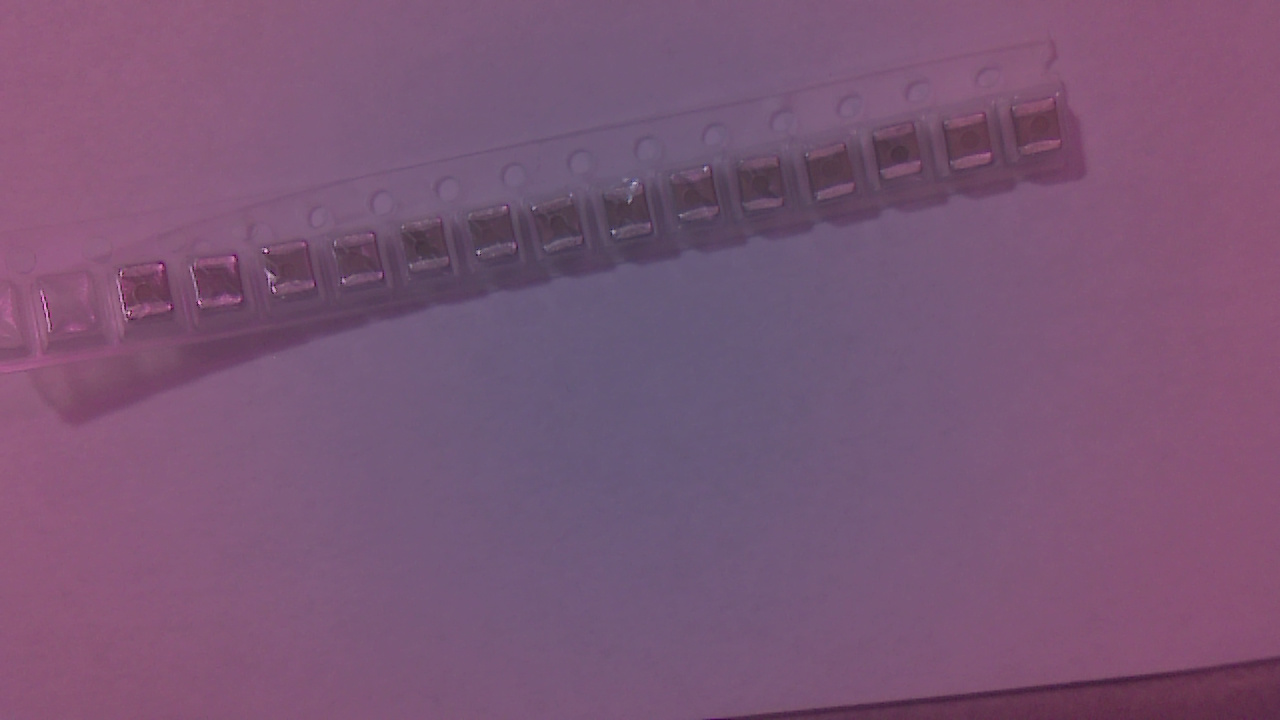Condensator: (122, 263, 179, 329), (265, 243, 319, 306), (1015, 104, 1071, 164), (607, 184, 660, 247), (403, 221, 457, 282), (334, 236, 388, 297), (194, 255, 246, 316), (875, 131, 930, 188), (676, 164, 724, 228), (809, 146, 858, 208), (537, 197, 584, 258), (740, 159, 791, 215), (473, 206, 520, 266), (949, 119, 1000, 170)
